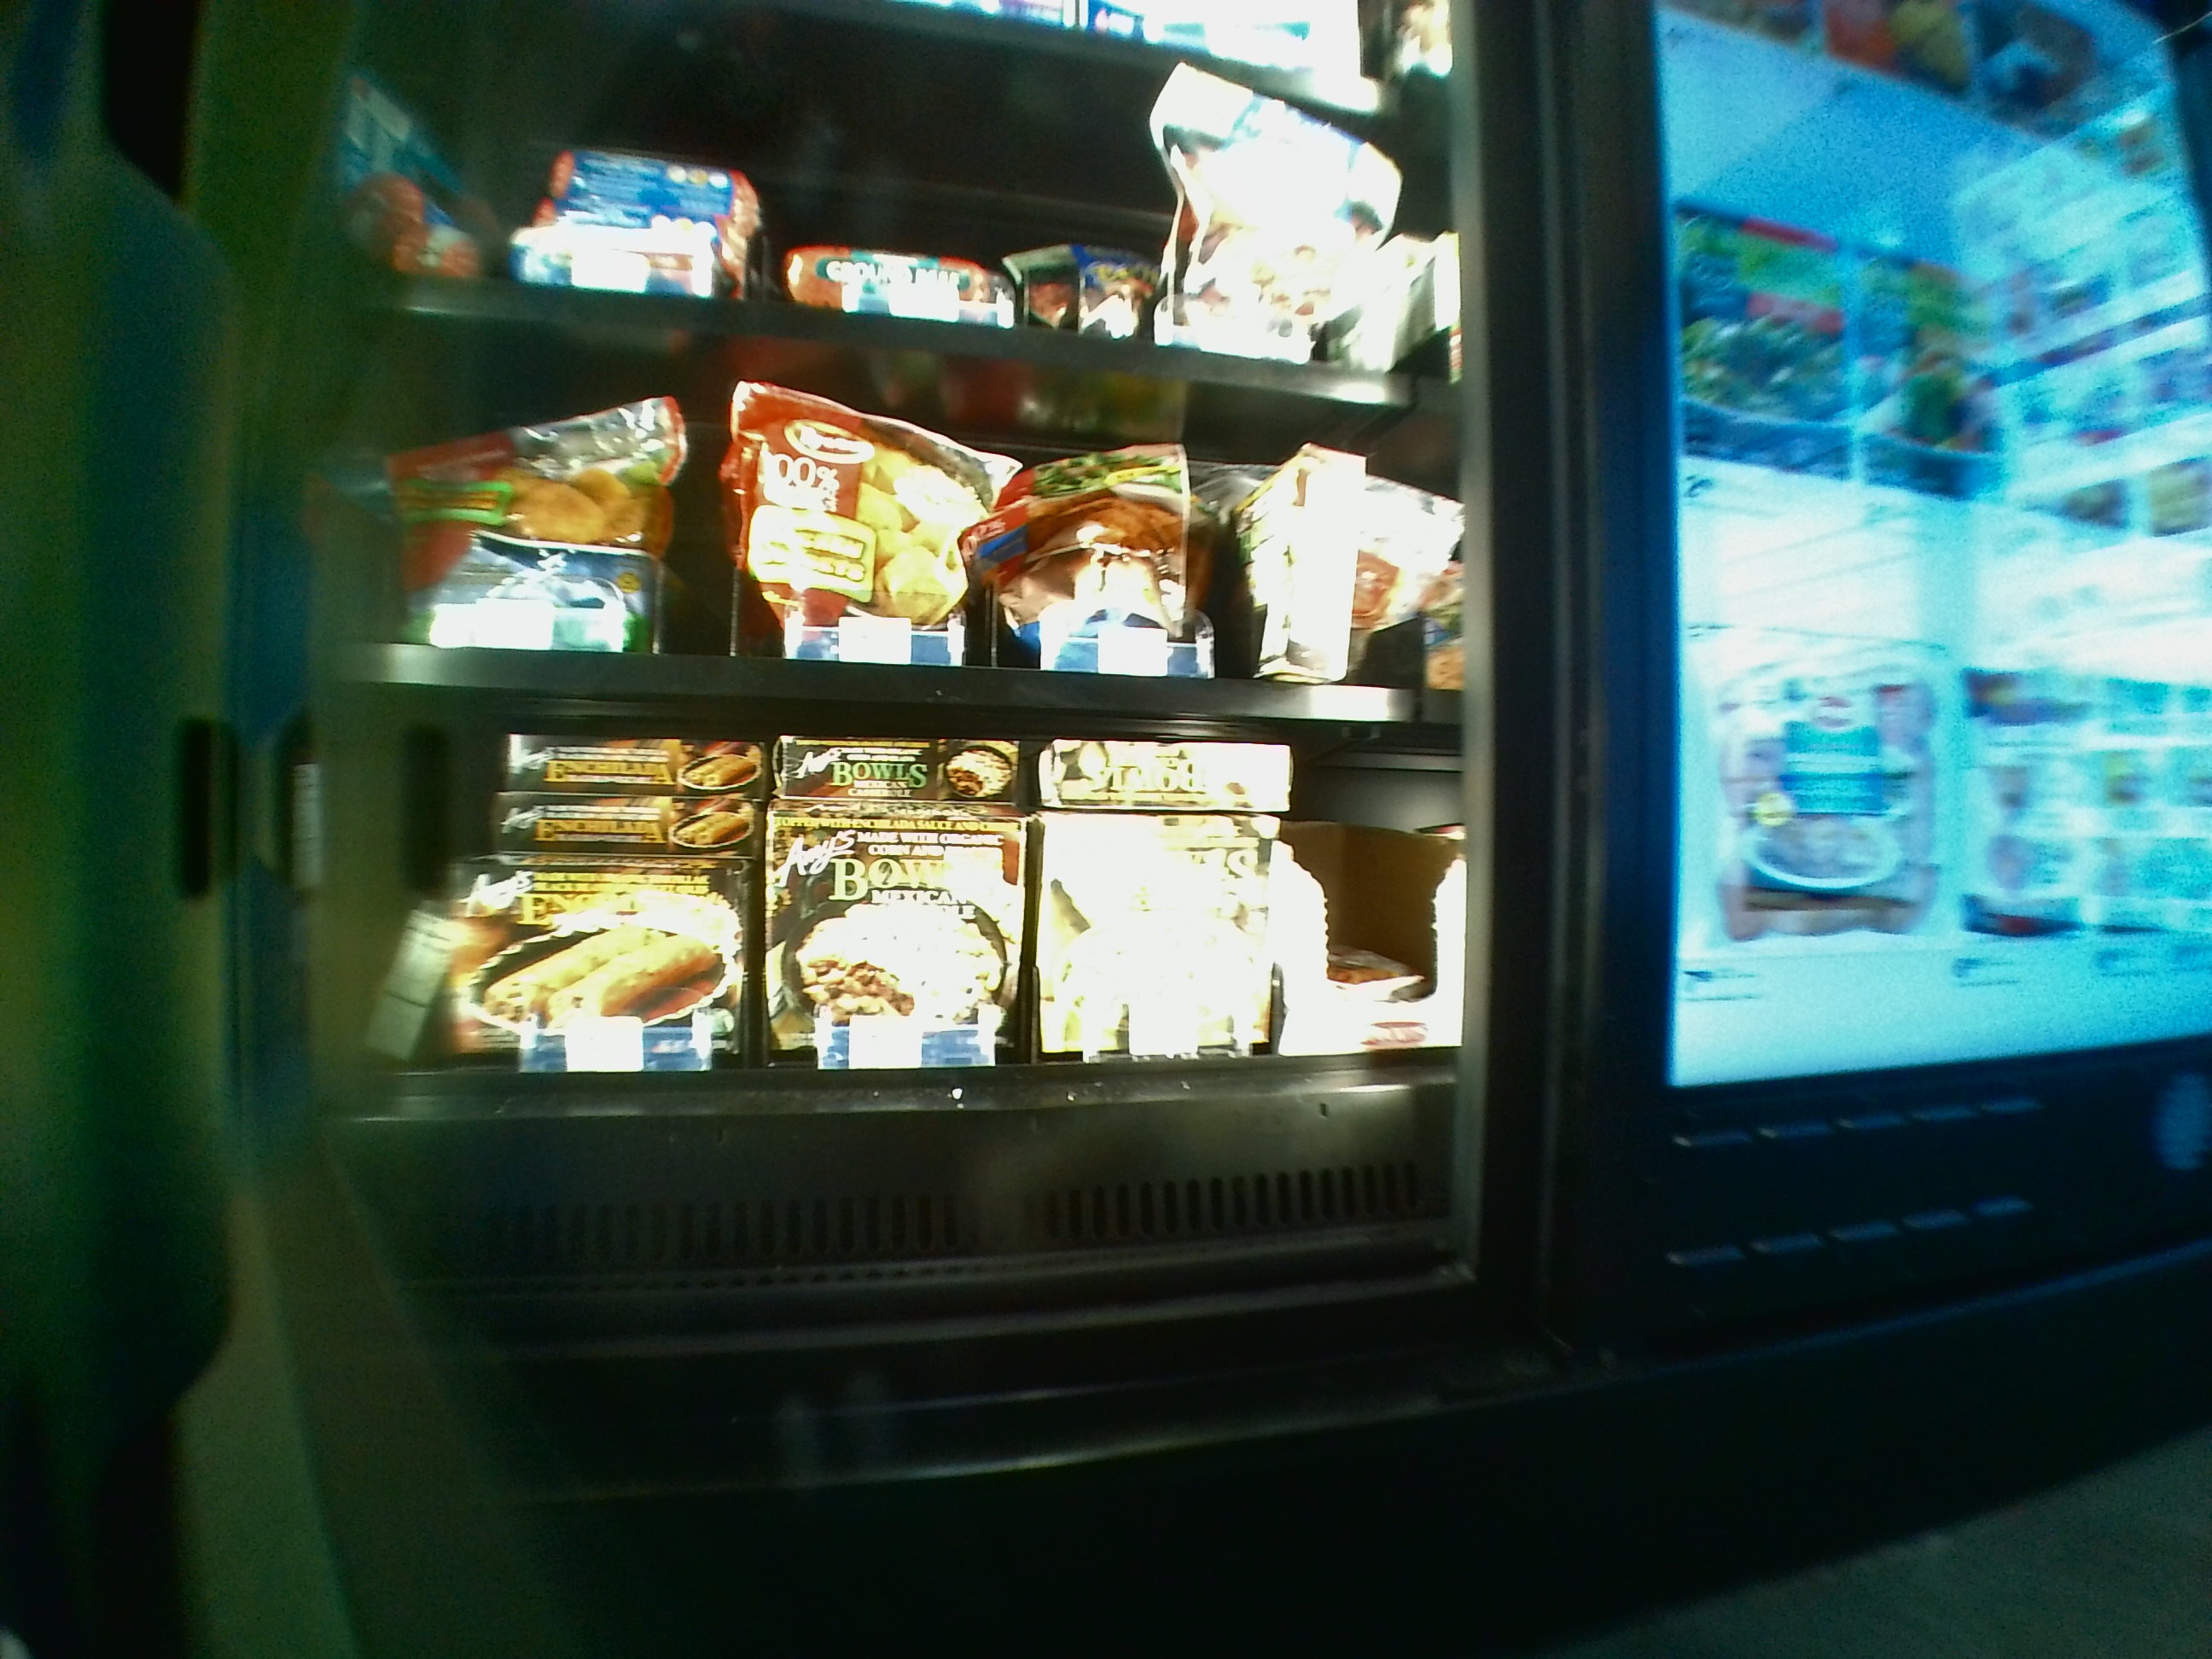shelf: (326, 742, 1456, 1270), (326, 317, 1451, 732)
